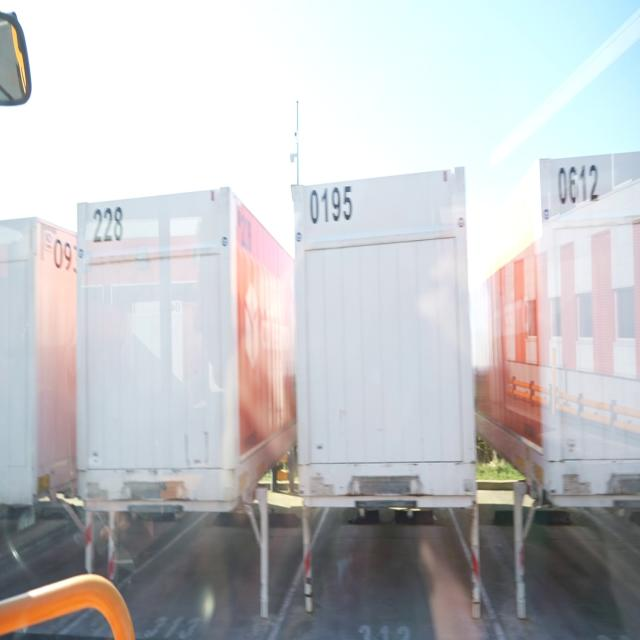Code: (552, 154, 601, 206), (307, 182, 355, 226), (90, 201, 124, 247)
